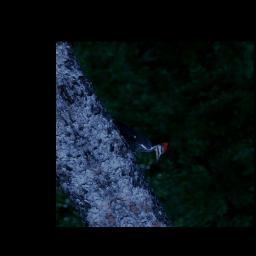Woodpecker: (109, 102, 176, 173)
